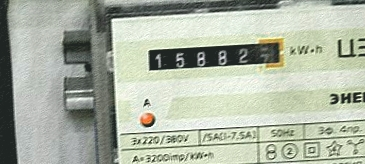1: (153, 52, 163, 69)
2: (237, 46, 248, 64)
5: (174, 51, 185, 67)
7: (260, 52, 269, 64)
8: (216, 48, 227, 66), (195, 51, 206, 67)
screen: (141, 33, 291, 80)
